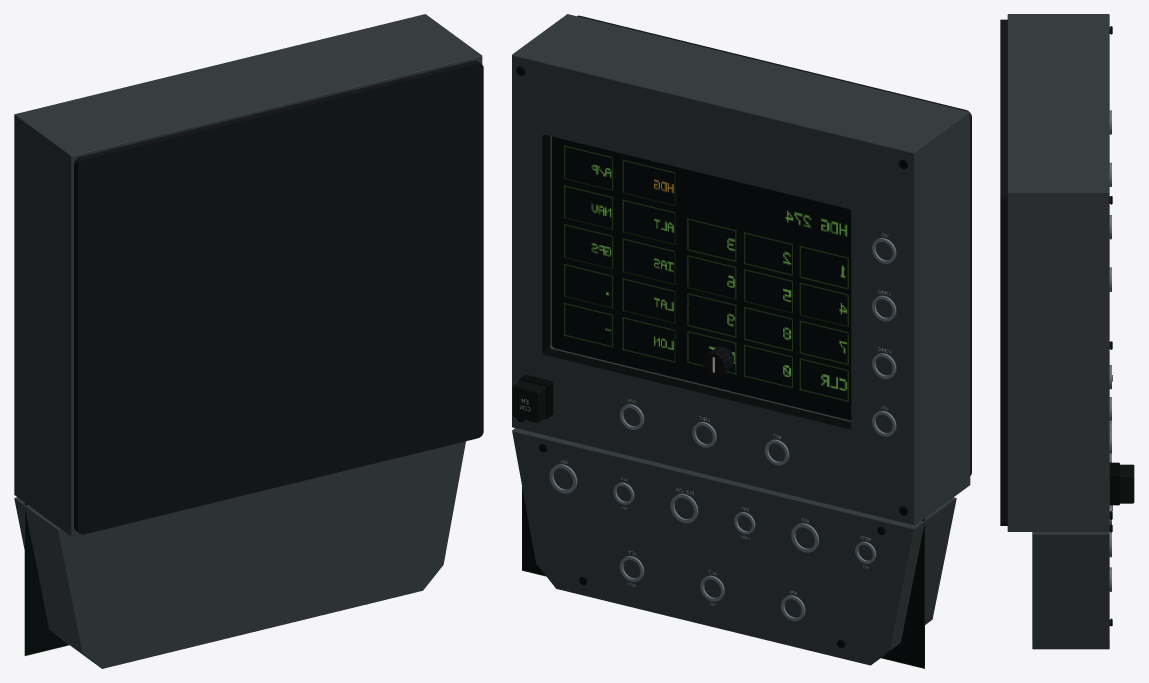
File: MFDStudio.obj
3 views of the same model, side by side, from view 1: azimuth 30°, elevation 25°; view 2: azimuth 150°, elevation 25°; view 3: azimuth 270°, elevation 25° (orthographic). The views are drawn at different scales.
Visible parts, largest first — view 1: MFDStudioBody, MFDStudioUfcHudBody, MFDStudioScreen; view 2: MFDStudioBody, MFDStudioScreen, MFDStudioUfcHudBody, MFDStudioUfcHudTrim, MFDStudioKeys2; view 3: MFDStudioBody, MFDStudioUfcHudBody, MFDStudioKeys2, MFDStudioUfcHudTrim.
Part boxes in pixels (<box>): MFDStudioBody: <box>14,14,483,536</box>; MFDStudioUfcHudBody: <box>14,441,465,668</box>; MFDStudioScreen: <box>24,503,69,655</box>; MFDStudioBody: <box>512,14,971,525</box>; MFDStudioScreen: <box>517,136,924,668</box>; MFDStudioUfcHudBody: <box>512,428,956,665</box>; MFDStudioUfcHudTrim: <box>549,464,876,621</box>; MFDStudioKeys2: <box>512,374,553,422</box>; MFDStudioBody: <box>1000,14,1111,531</box>; MFDStudioUfcHudBody: <box>1032,531,1109,649</box>; MFDStudioKeys2: <box>1109,462,1134,505</box>; MFDStudioUfcHudTrim: <box>1109,422,1111,591</box>.
Size of the model in its own units: 0.29 by 0.36 by 0.0922.
Materials: 11 (1 with a texture image).
